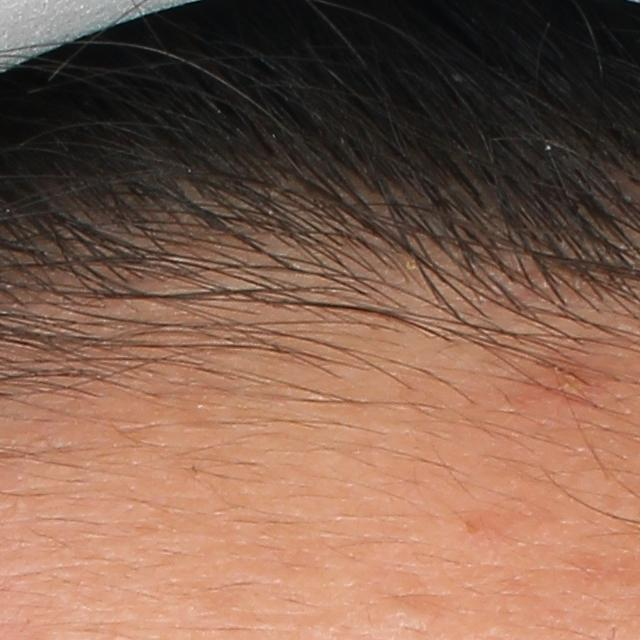comedo: (374, 601, 431, 634)
